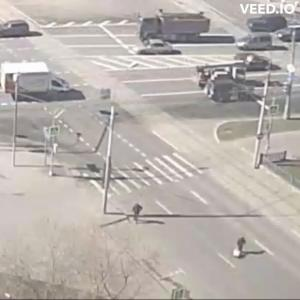car: (4, 62, 79, 100), (135, 15, 210, 42), (198, 65, 256, 87), (206, 86, 257, 107), (237, 34, 290, 52), (248, 15, 288, 35), (129, 41, 174, 58), (1, 18, 33, 39), (237, 56, 277, 70), (276, 28, 300, 44)
